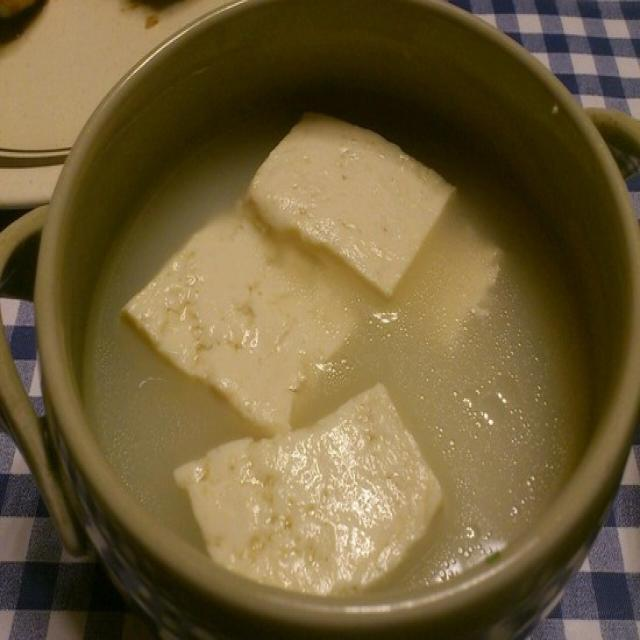豆腐料理: (34, 19, 607, 608)
